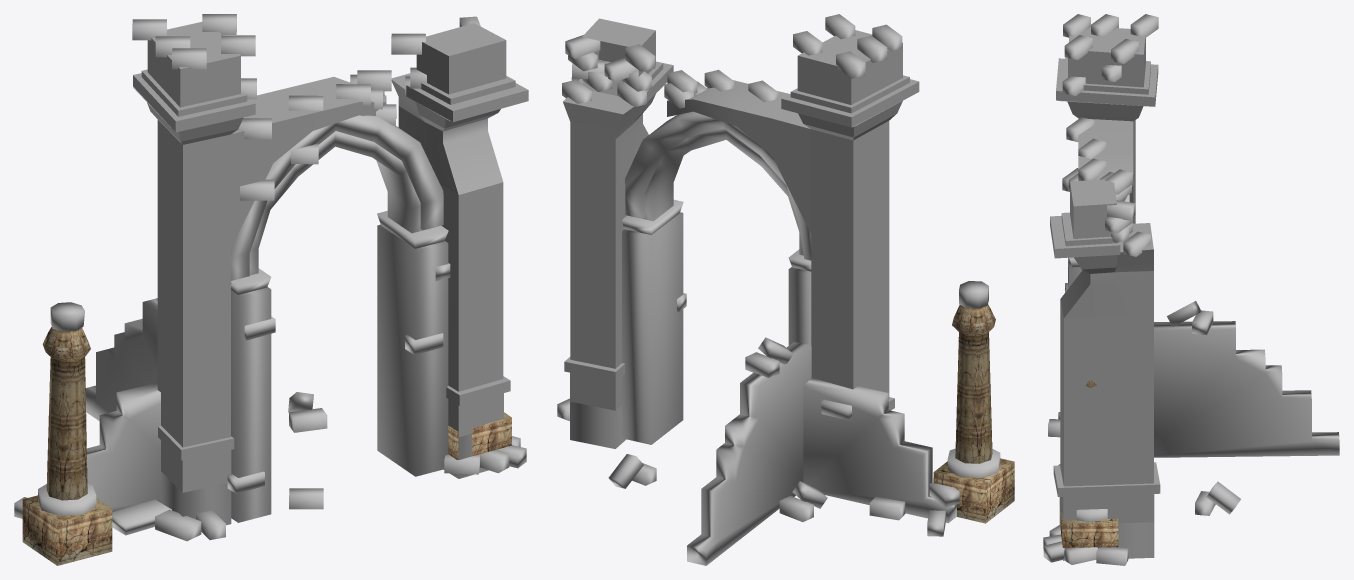
The model's file is desret ruin 4.fbx.
3 views of the same model, side by side, from view 1: azimuth 30°, elevation 25°; view 2: azimuth 150°, elevation 25°; view 3: azimuth 270°, elevation 25° (orthographic). The views are drawn at different scales.
Visible parts, largest first — view 1: polySurface3; view 2: polySurface3; view 3: polySurface3.
Part boxes in pixels (left/top/right/bottom): polySurface3: left=14, top=14, right=528, bottom=565; polySurface3: left=557, top=14, right=1014, bottom=565; polySurface3: left=1043, top=14, right=1339, bottom=565.
Size of the model in its own units: 21.12 by 20.88 by 13.6.
3 materials, 1 textured.
